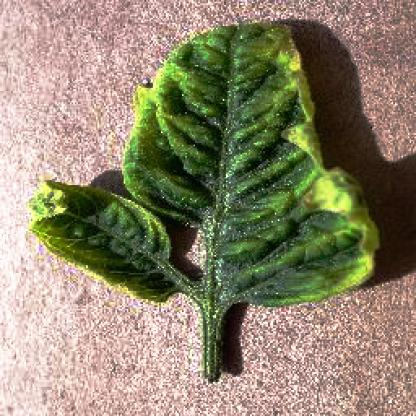Virus: (24, 23, 382, 375)
